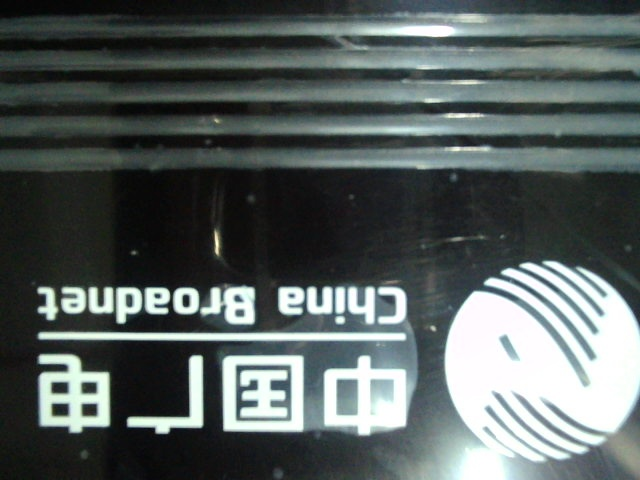AW_ChinaBroadNet: (30, 256, 639, 464)
